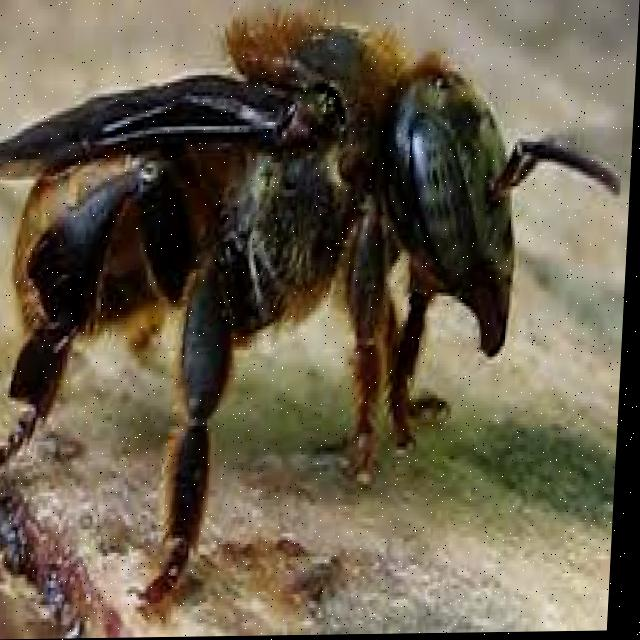Meliponula: (0, 0, 594, 508)
